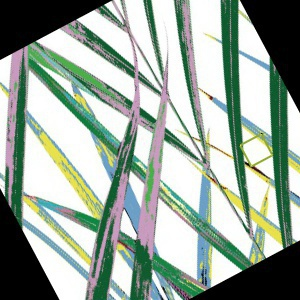square: (236, 132, 276, 167)
